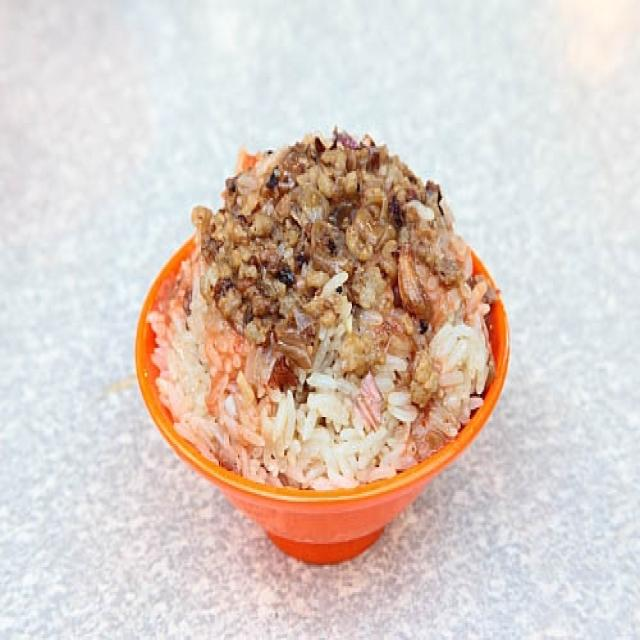米饭主食: (118, 113, 513, 540)
